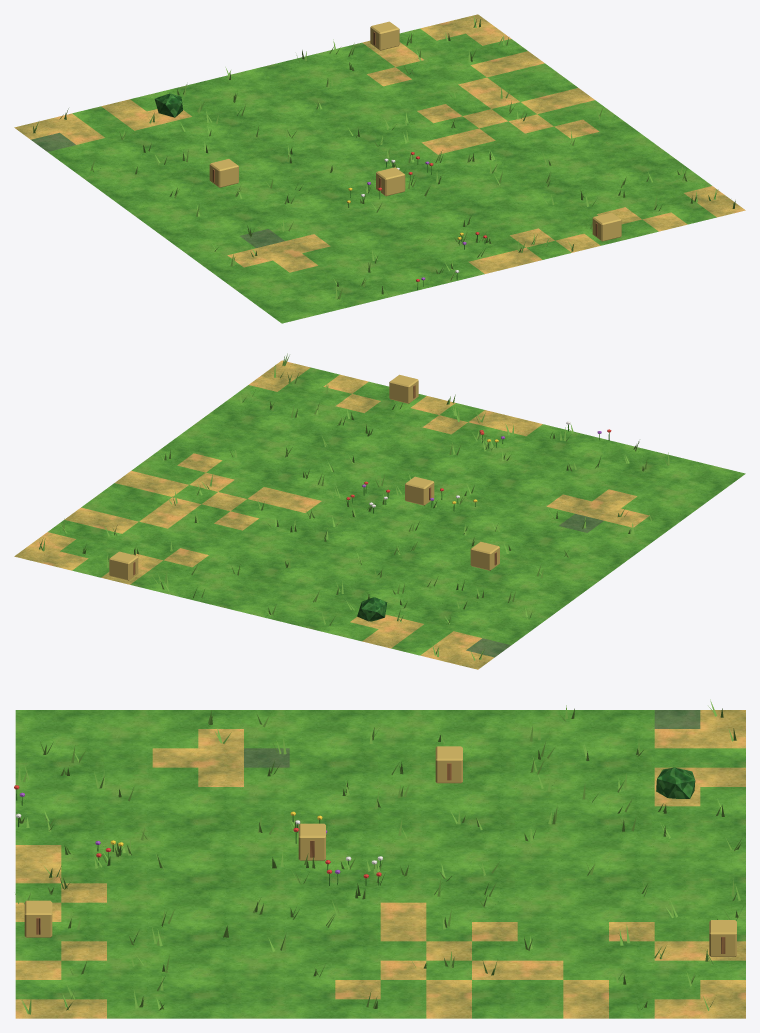
Rendered from chunk_8_9.glb.
The picture shows the model from 3 angles, top to bottom: view 1: azimuth 30°, elevation 25°; view 2: azimuth 150°, elevation 25°; view 3: azimuth 270°, elevation 25°; orthographic projection. The views are drawn at different scales.
Parts seen in each view (by area): view 1: chunk_8_9; view 2: chunk_8_9; view 3: chunk_8_9.
Part boxes in pixels (x1=…): chunk_8_9: x1=14, y1=14, x2=745, y2=323; chunk_8_9: x1=14, y1=353, x2=745, y2=669; chunk_8_9: x1=14, y1=699, x2=745, y2=1018.
Size of the model in its own units: 16 by 0.769 by 16.04.
12 materials, 6 textured.
